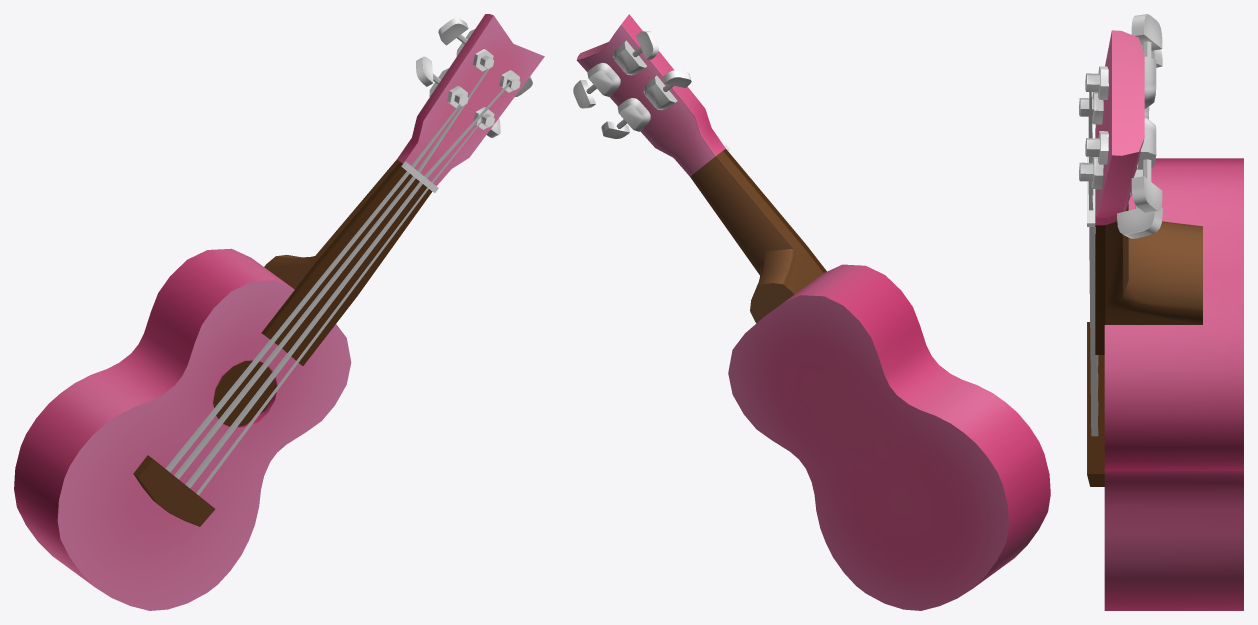
Rendered from guitar.FBX.
3 renders of one model, left to right at view 1: azimuth 30°, elevation 25°; view 2: azimuth 150°, elevation 25°; view 3: azimuth 270°, elevation 25°, orthographic. The views are drawn at different scales.
Parts seen in each view (by area): view 1: guitar; view 2: guitar; view 3: guitar.
Boxes of the visible parts, x1=… form: guitar: x1=14, y1=14, x2=544, y2=610; guitar: x1=573, y1=14, x2=1050, y2=610; guitar: x1=1079, y1=14, x2=1243, y2=610.
Size of the model in its own units: 54.97 by 54.97 by 10.05.
